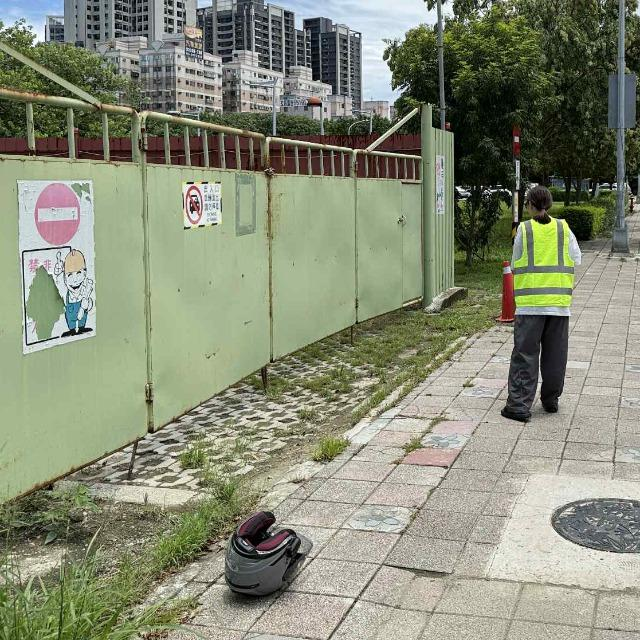Vest: (509, 217, 580, 314)
